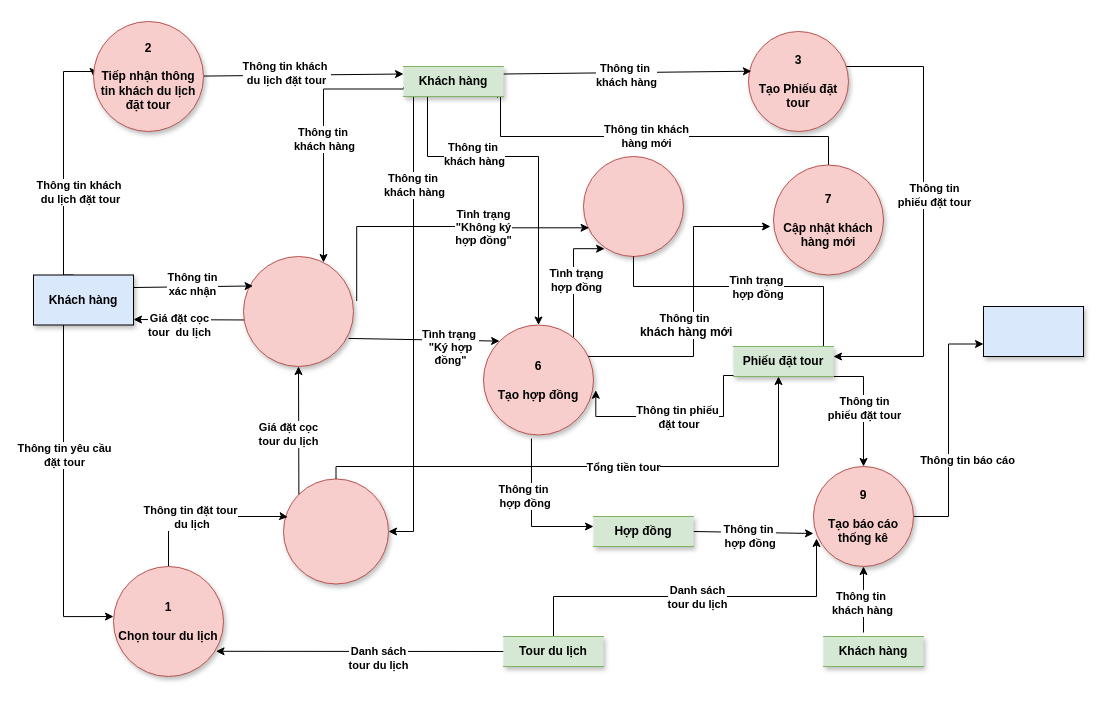
Some shapes in this 1107 by 701 pixel diagram are drawn without their labels. The shapes that lost their labels are listed below. From the top down, each one's centre as x and y in pixels, then its label:
At point (634, 208): "8 Cập nhật phiếu đặt tour".
At point (299, 313): "5 Xác nhận đặt cọc của khách du lịch đặt tour".
At point (1034, 333): "Công ty".
At point (336, 532): "4 Xử lý thanh toán tour du lịch".
